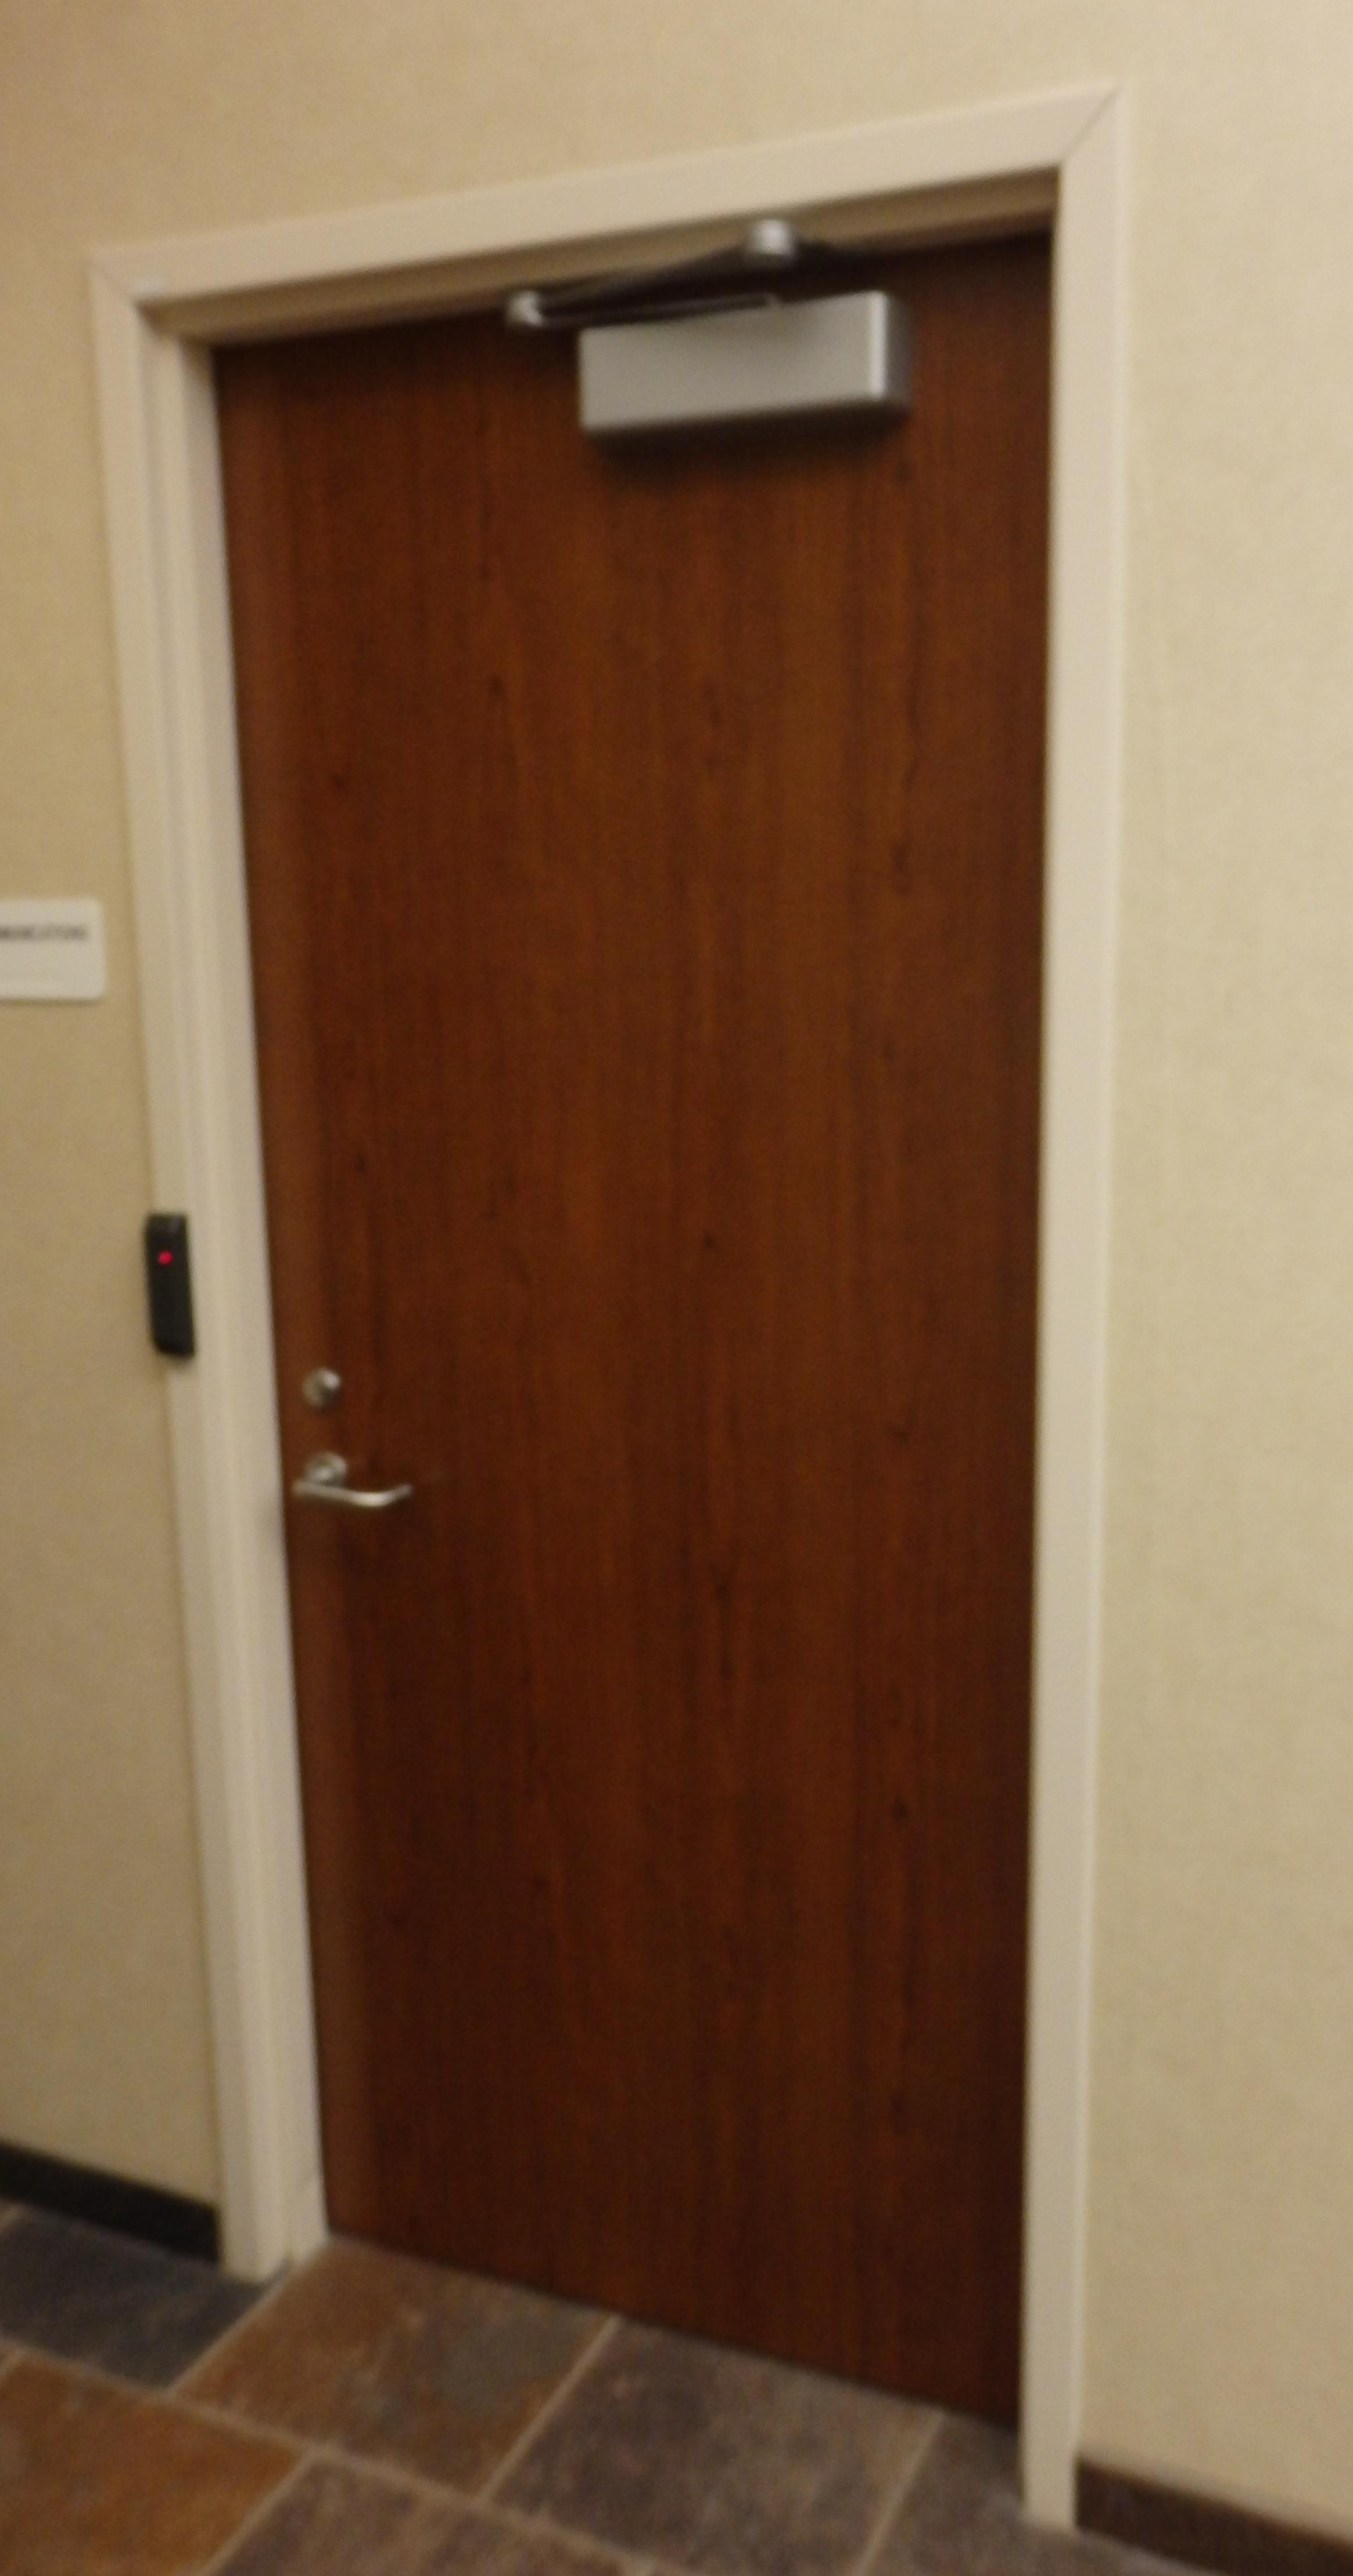door: (186, 165, 1082, 2402)
